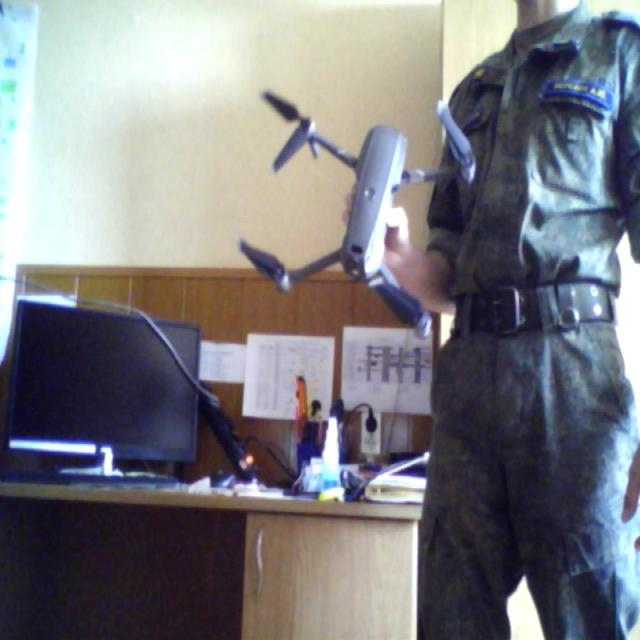drone: (245, 88, 473, 348)
